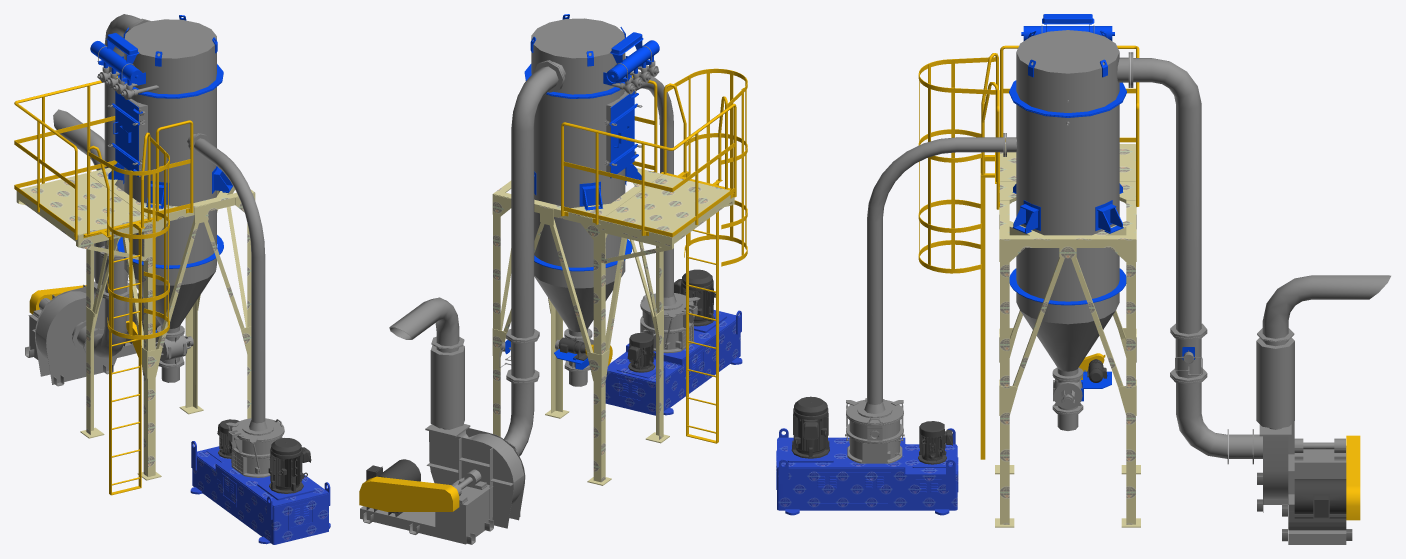
3 views of the same model, side by side, from view 1: azimuth 30°, elevation 25°; view 2: azimuth 150°, elevation 25°; view 3: azimuth 270°, elevation 25° (orthographic). The views are drawn at different scales.
Visible parts, largest first — view 1: 短管.004, 架台, テスリ_1, 架台側板.001, blueparts, motorsmall, middlePart; view 2: 短管.004, 架台, テスリ_1, 架台側板.001, blueparts, motorsmall, middlePart, モータ.2; view 3: 短管.004, 架台, 架台側板.001, テスリ_1, blueparts, motorsmall, モータ.2, middlePart.
Part boxes in pixels (x1,y1,x2,y2): 短管.004: [25, 14, 273, 434]; 架台: [16, 167, 255, 476]; テスリ_1: [14, 76, 193, 495]; 架台側板.001: [190, 441, 330, 544]; blueparts: [90, 15, 232, 332]; motorsmall: [217, 419, 311, 493]; middlePart: [225, 418, 284, 477]; 短管.004: [360, 18, 682, 544]; 架台: [492, 167, 734, 482]; テスリ_1: [359, 68, 747, 511]; 架台側板.001: [605, 310, 742, 415]; blueparts: [505, 14, 659, 369]; motorsmall: [627, 269, 715, 372]; middlePart: [640, 293, 700, 353]; モータ.2: [366, 337, 587, 516]; 短管.004: [857, 25, 1390, 544]; 架台: [999, 144, 1136, 524]; 架台側板.001: [776, 428, 958, 515]; テスリ_1: [918, 45, 1360, 520]; blueparts: [1009, 14, 1194, 401]; motorsmall: [791, 396, 952, 464]; モータ.2: [1087, 359, 1346, 530]; middlePart: [845, 398, 904, 463].
Size of the model in its own units: 2.86 by 5.2 by 6.37.
6 materials, 2 textured.
